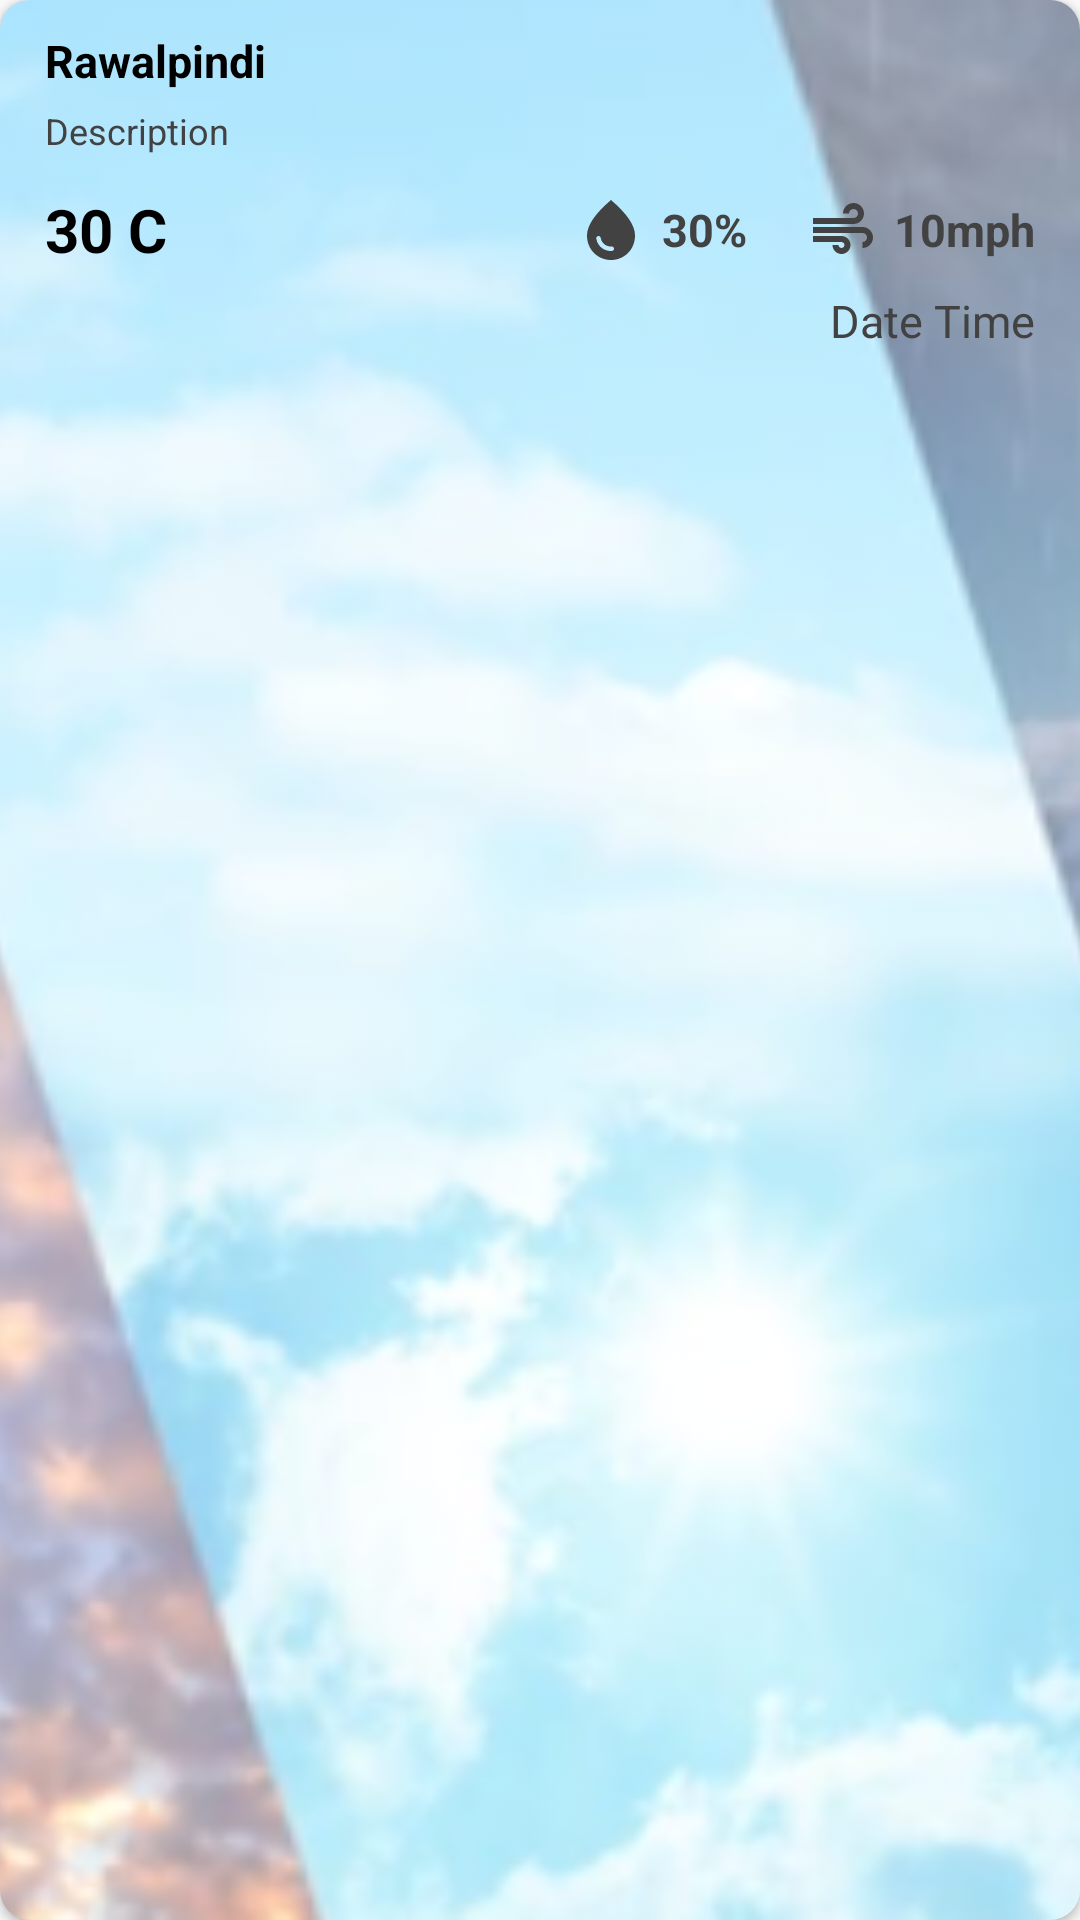

Icon click points for this 1080x1920 phone screenshot, format [x,y]:
humidity: [611,230]
wind: [843,230]
